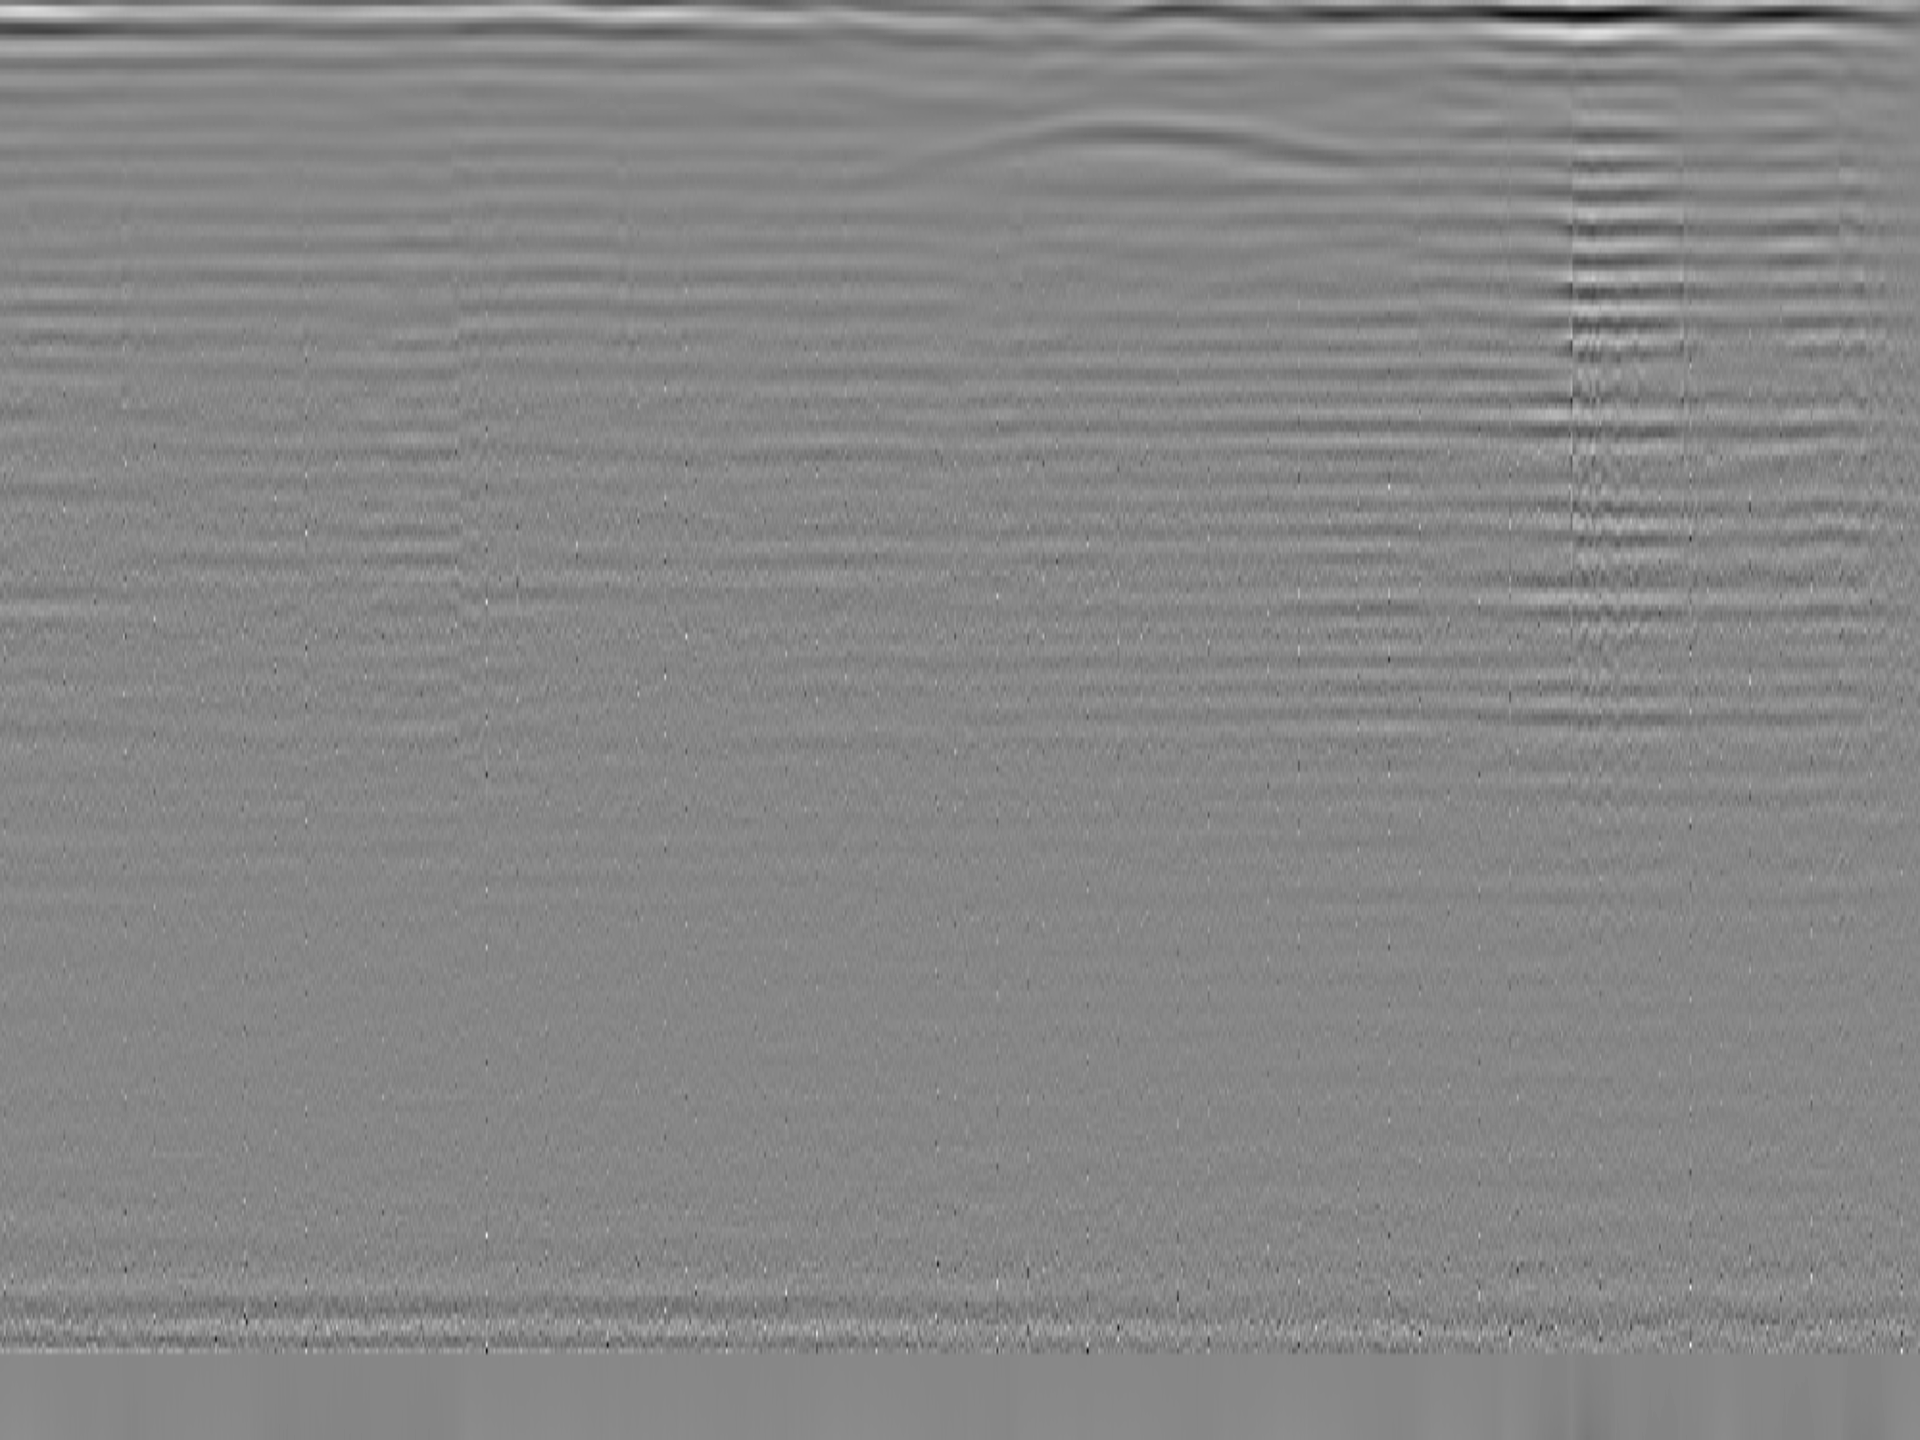Tunnel: (889, 112, 1385, 188)
